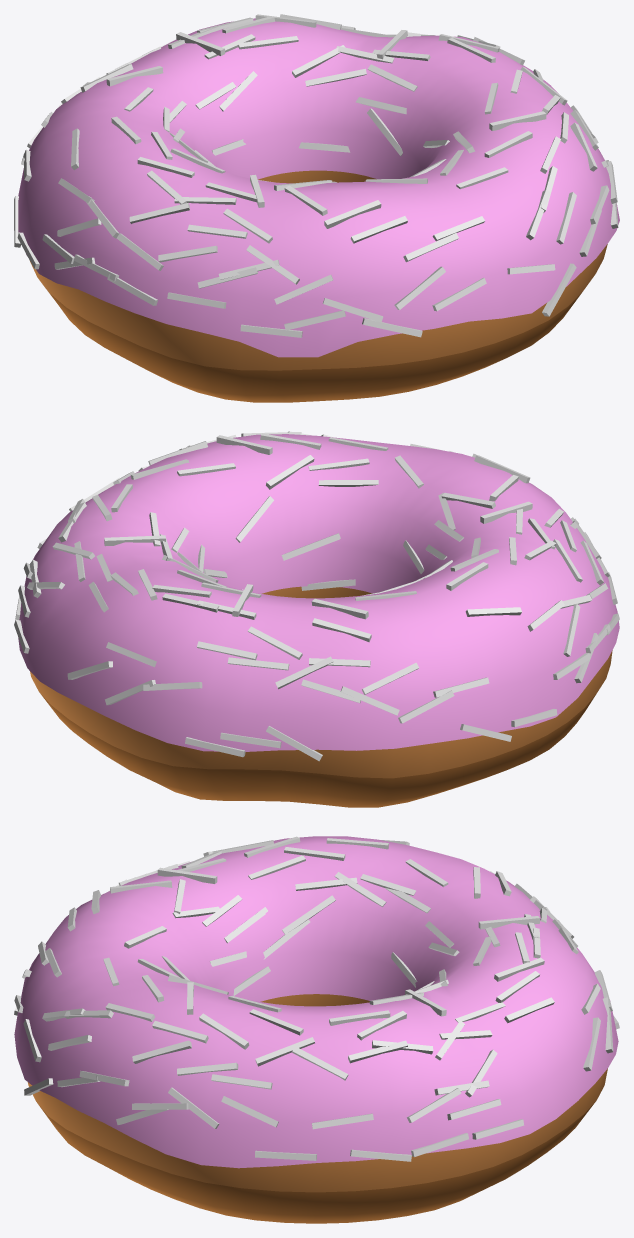
The model's file is donut.gltf.
3 renders of one model, top to bottom at view 1: azimuth 30°, elevation 25°; view 2: azimuth 150°, elevation 25°; view 3: azimuth 270°, elevation 25°, orthographic.
Parts seen in each view (by area): view 1: Donut; view 2: Donut; view 3: Donut.
Part boxes in pixels (bbox=[...]): Donut: bbox=[14, 14, 619, 402]; Donut: bbox=[14, 431, 619, 807]; Donut: bbox=[14, 836, 619, 1223].
Size of the model in its own units: 0.5517 by 0.2092 by 0.5487.
Materials: 1 (1 with a texture image).
